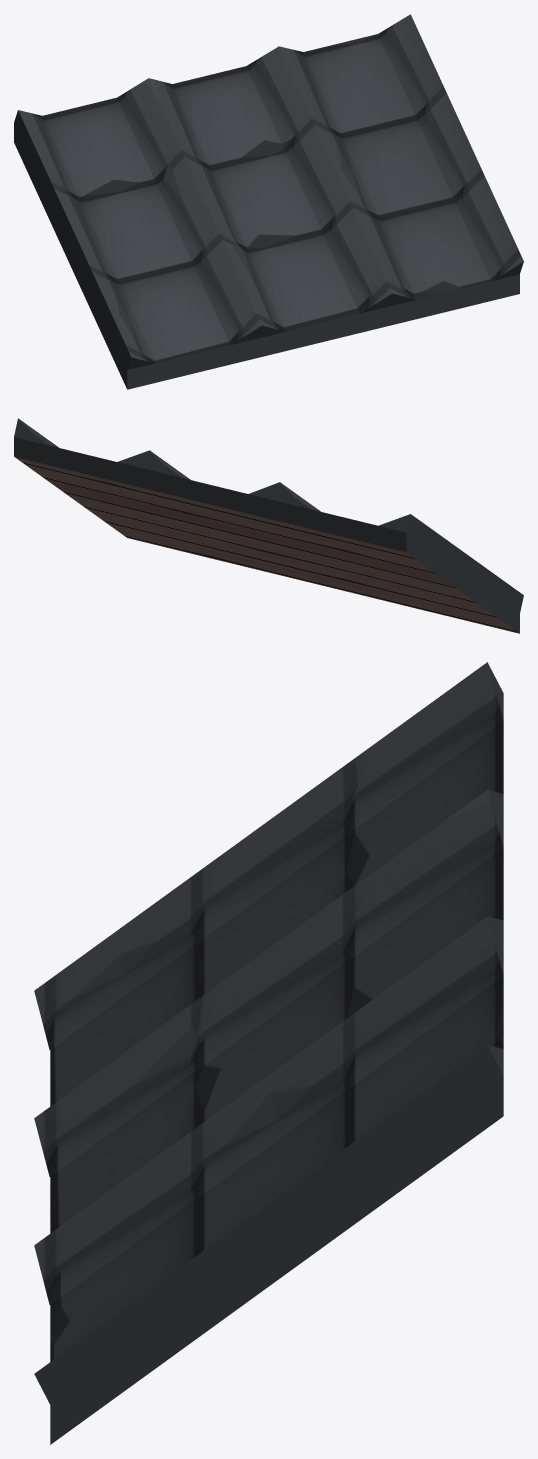
Rendered from SM_Bld_Roof_Half_01.fbx.
The picture shows the model from 3 angles, top to bottom: view 1: azimuth 30°, elevation 25°; view 2: azimuth 150°, elevation 25°; view 3: azimuth 270°, elevation 25°; orthographic projection. The views are drawn at different scales.
Parts seen in each view (by area): view 1: SM_Bld_Roof_Half_01; view 2: SM_Bld_Roof_Half_01; view 3: SM_Bld_Roof_Half_01.
Part boxes in pixels (box(x1,y1,x2,y2)): SM_Bld_Roof_Half_01: box(14, 14, 523, 389); SM_Bld_Roof_Half_01: box(14, 418, 523, 633); SM_Bld_Roof_Half_01: box(34, 662, 503, 1444).
Size of the model in its own units: 250 by 122 by 130.
